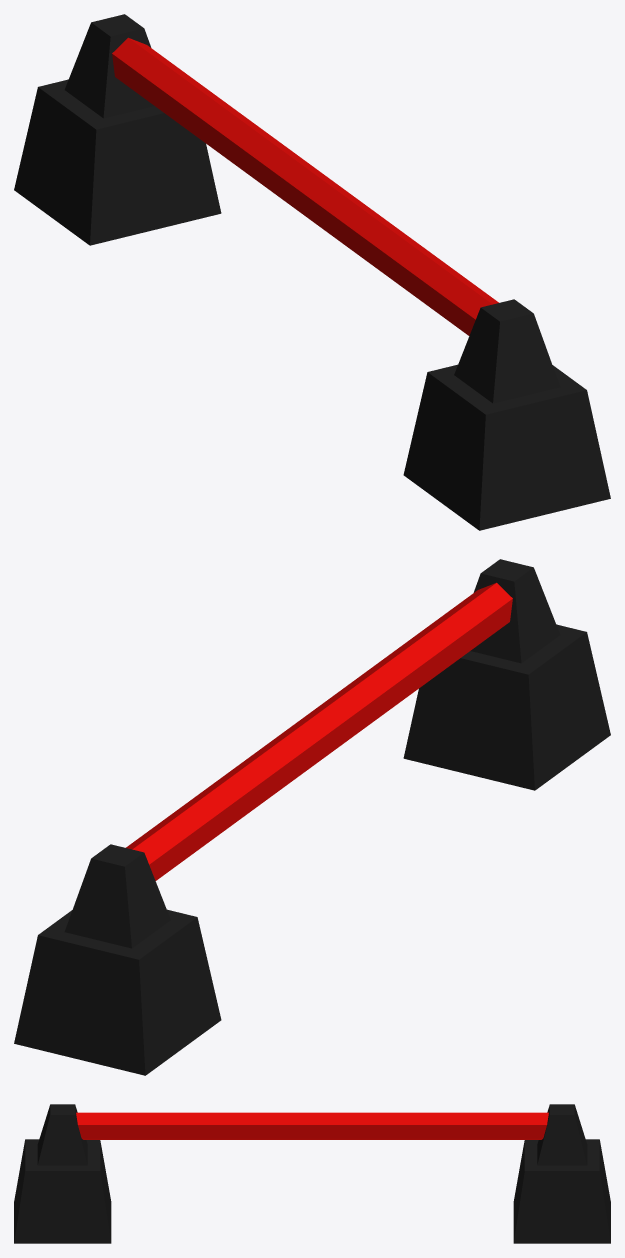
The model's file is LightLong.fbx.
3 views of the same model, one above another, from view 1: azimuth 30°, elevation 25°; view 2: azimuth 150°, elevation 25°; view 3: azimuth 270°, elevation 25° (orthographic). The views are drawn at different scales.
Visible parts, largest first — view 1: Cylinder; view 2: Cylinder; view 3: Cylinder.
Part boxes in pixels (bbox=[...]): Cylinder: bbox=[14, 14, 610, 530]; Cylinder: bbox=[14, 559, 610, 1075]; Cylinder: bbox=[14, 1104, 610, 1243].
Size of the model in its own units: 39 by 50 by 239.
